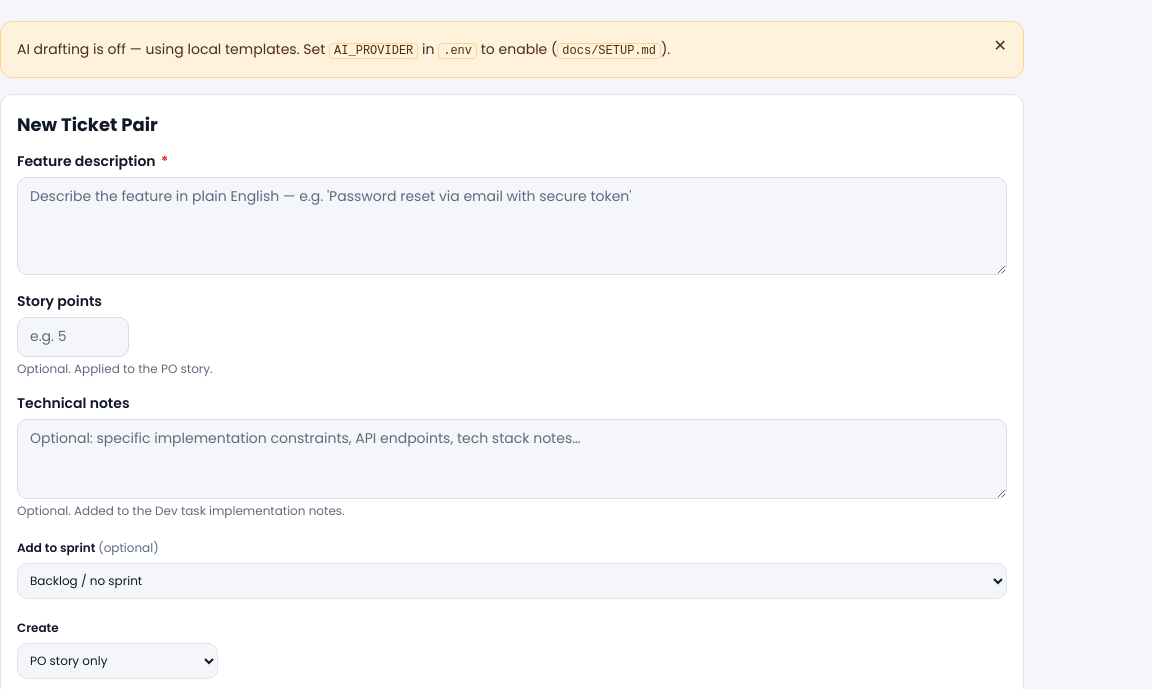
Scenario: TicketGen › shows 'Create in Jira' button in preview
Type "Feature X" into the text box labelled "Feature description *" at x=512, y=226, box top-left (17, 177), bottom-right (1007, 275)
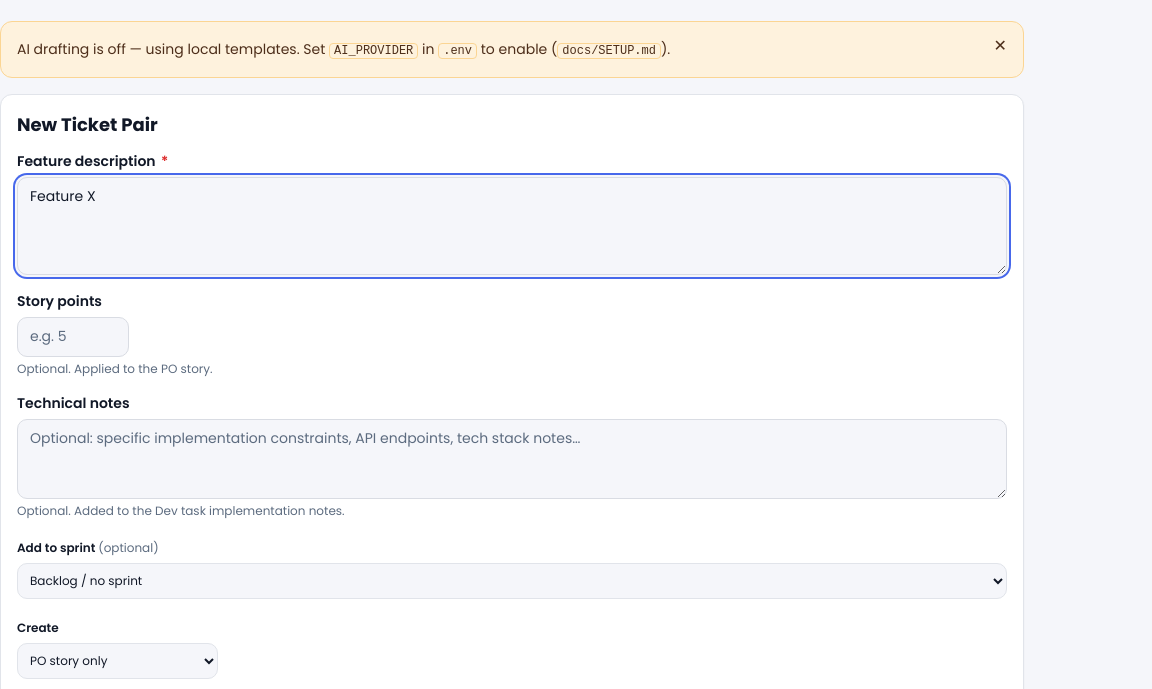
Select "PO + linked Dev task" in the dropdown named "what to create" at x=117, y=661, box top-left (17, 643), bottom-right (218, 679)
(page scrolled)
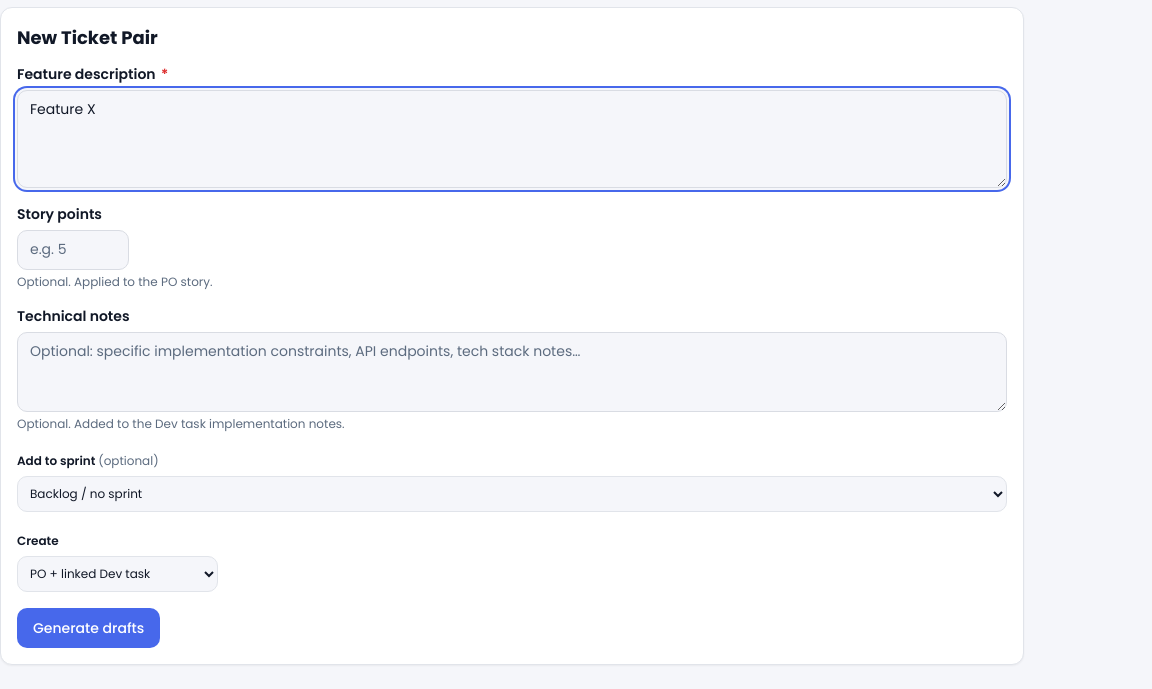
Click the button "Generate drafts" at x=89, y=628, box top-left (17, 608), bottom-right (160, 648)
(page scrolled)
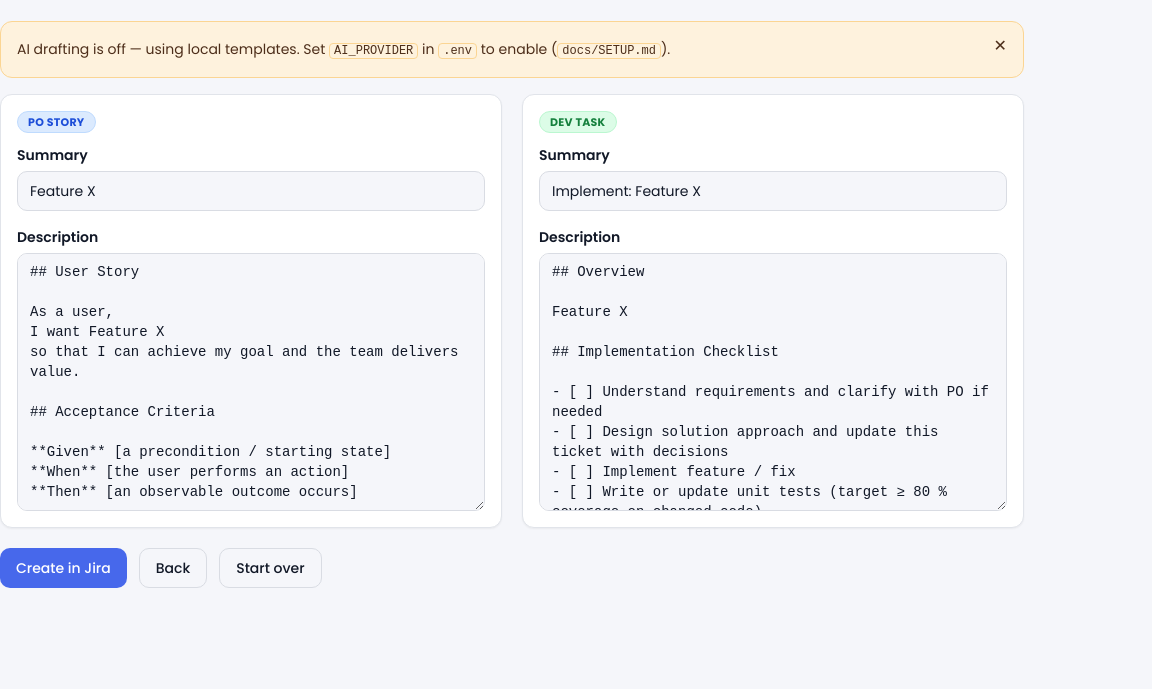
Result: the button "Create in Jira" is shown at top-left (0, 548), bottom-right (127, 588)
